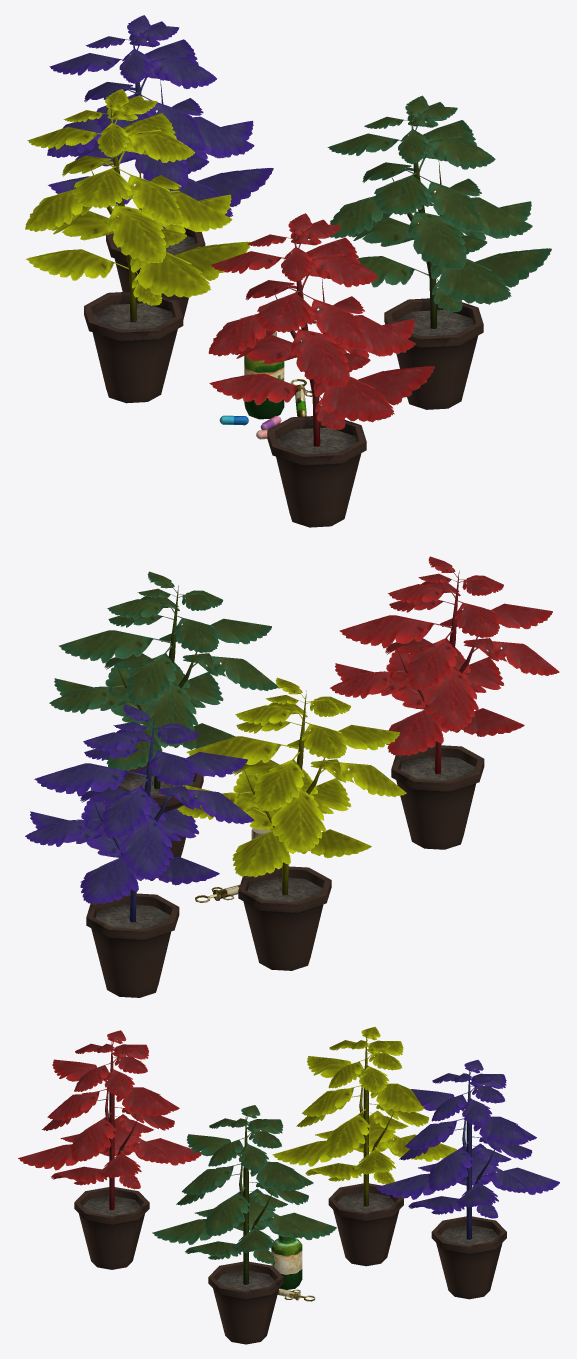
The model's file is healing_assets.fbx.
3 views of the same model, one above another, from view 1: azimuth 30°, elevation 25°; view 2: azimuth 150°, elevation 25°; view 3: azimuth 270°, elevation 25° (orthographic). The views are drawn at different scales.
Visible parts, largest first — view 1: herbs_red, herbs_yellow, herbs_green, herbs_blue, greensyrum; view 2: herbs_blue, herbs_red, herbs_yellow, herbs_green; view 3: herbs_green, herbs_red, herbs_blue, herbs_yellow, greensyrum.
Part boxes in pixels (x1,y1,x2,y2): herbs_red: (208, 213, 434, 527); herbs_yellow: (25, 89, 250, 403); herbs_green: (327, 95, 551, 409); herbs_blue: (47, 15, 273, 319); greensyrum: (244, 331, 284, 419); herbs_blue: (25, 704, 254, 997); herbs_red: (330, 556, 559, 849); herbs_yellow: (177, 677, 406, 970); herbs_green: (49, 571, 278, 859); herbs_green: (152, 1105, 336, 1344); herbs_red: (18, 1030, 201, 1269); herbs_blue: (375, 1060, 559, 1299); herbs_yellow: (272, 1027, 456, 1266); greensyrum: (271, 1235, 302, 1289).
Size of the model in its own units: 134 by 84.34 by 194.
Materials: 5 (5 with a texture image).
